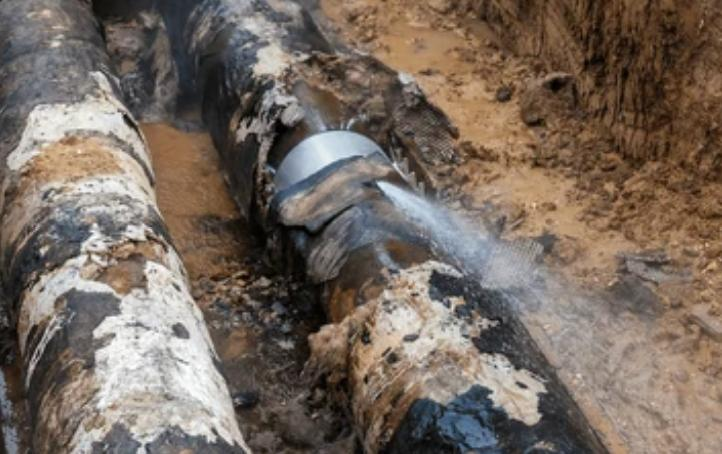pipe burst: (374, 178, 615, 362)
water accumulation: (138, 120, 284, 355), (319, 1, 472, 73)
